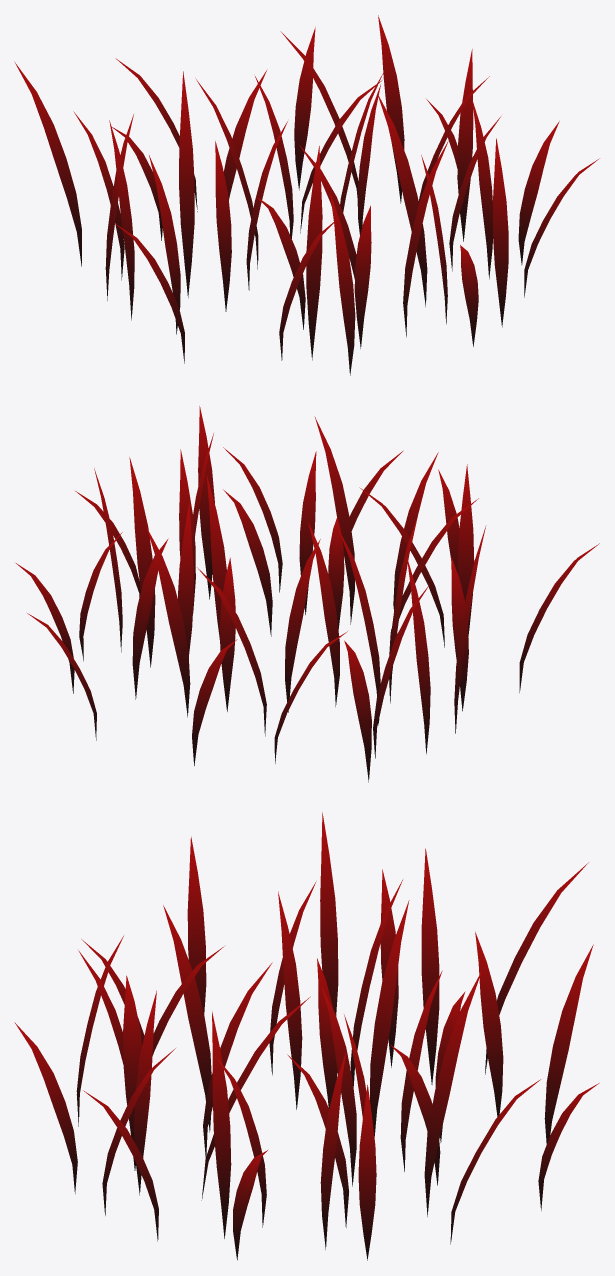
File: grass6.fbx
The picture shows the model from 3 angles, top to bottom: view 1: azimuth 30°, elevation 25°; view 2: azimuth 150°, elevation 25°; view 3: azimuth 270°, elevation 25°; orthographic projection. The views are drawn at different scales.
Visible parts, largest first — view 1: Grass; view 2: Grass; view 3: Grass.
Part boxes in pixels (left/top/right/bottom): Grass: left=14, top=15, right=599, bottom=375; Grass: left=16, top=406, right=599, bottom=782; Grass: left=14, top=812, right=599, bottom=1260.
Size of the model in its own units: 348 by 148 by 322.
